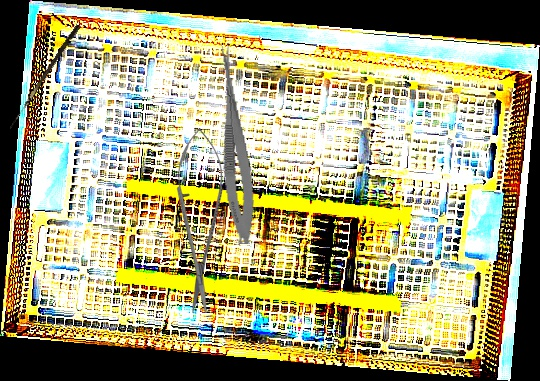Hook Surgical: (9, 23, 81, 132)
Micro Scissor: (207, 41, 261, 246), (175, 128, 224, 313)
